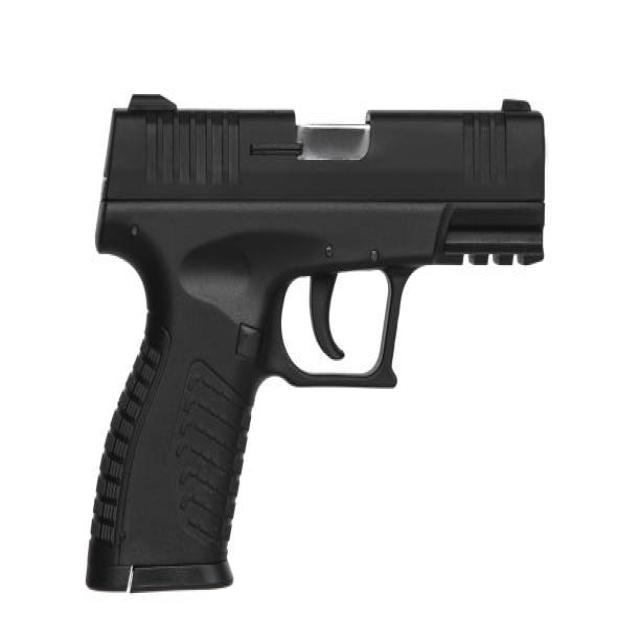pistol: (78, 81, 556, 603)
